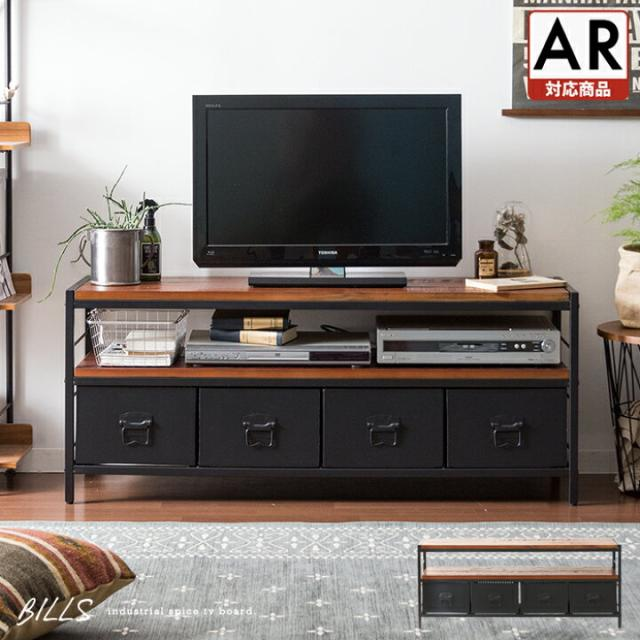vintage shelf: (65, 273, 581, 509)
